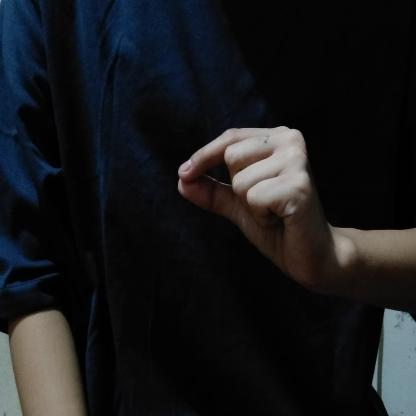nothing: (169, 116, 361, 309)
